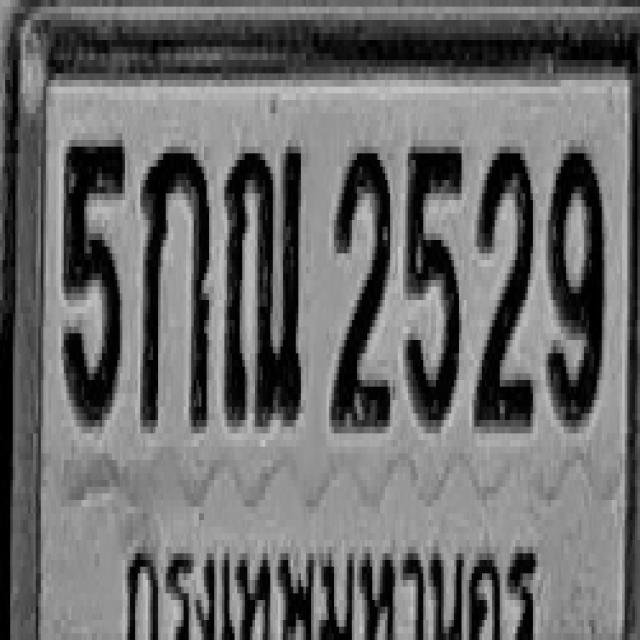10GorGai: (140, 137, 209, 423)
2: (329, 140, 390, 427), (474, 137, 533, 423)
28NorNen: (223, 137, 302, 423)
5: (63, 133, 124, 420), (406, 137, 462, 423)
9: (547, 144, 603, 424)
Bangkok: (114, 526, 545, 640)
